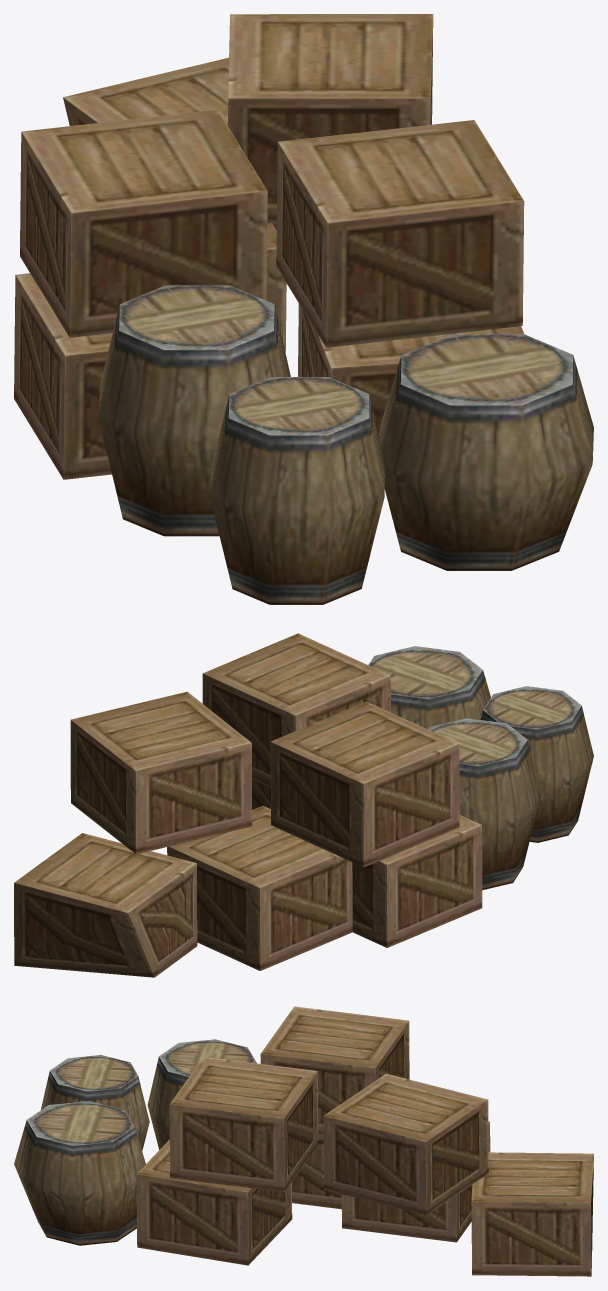
Rendered from xzc_muxiang01_w.FBX.
3 renders of one model, top to bottom at view 1: azimuth 30°, elevation 25°; view 2: azimuth 150°, elevation 25°; view 3: azimuth 270°, elevation 25°, orthographic. The views are drawn at different scales.
Visible parts, largest first — view 1: xzc_muxiang01_w; view 2: xzc_muxiang01_w; view 3: xzc_muxiang01_w.
Boxes of the visible parts, <box> form: xzc_muxiang01_w: <box>14,14,593,604</box>; xzc_muxiang01_w: <box>14,633,593,977</box>; xzc_muxiang01_w: <box>14,1006,593,1276</box>.
Bounding box in the file's own units: 19.01 × 9.29 × 31.59.
